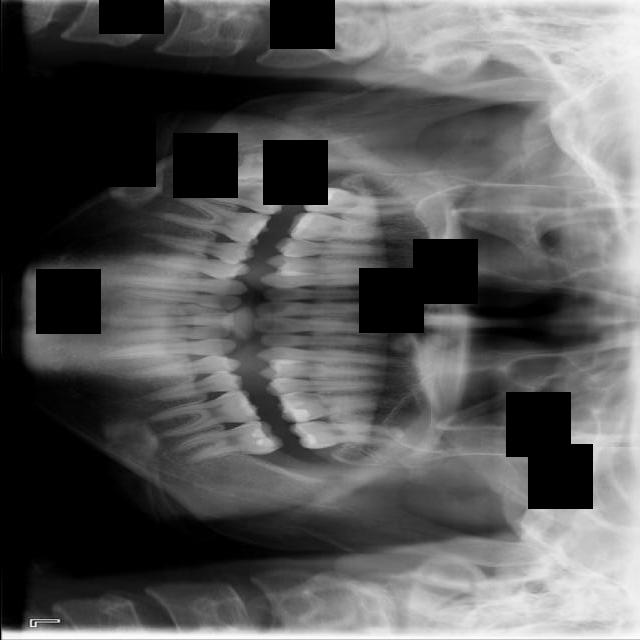52: (212, 382, 264, 436), (231, 411, 283, 462), (222, 202, 273, 254), (244, 173, 292, 221), (285, 209, 333, 244), (302, 188, 351, 214), (277, 392, 318, 423), (290, 421, 332, 450)
73: (16, 618, 22, 628)
BioHorizons Implant: (289, 421, 411, 450)
Blue Sky Bio Implant: (172, 417, 283, 467)
Caries: (303, 186, 409, 221)
Implant: (182, 169, 293, 218)
Keystone Dental Implant: (227, 143, 303, 192)
